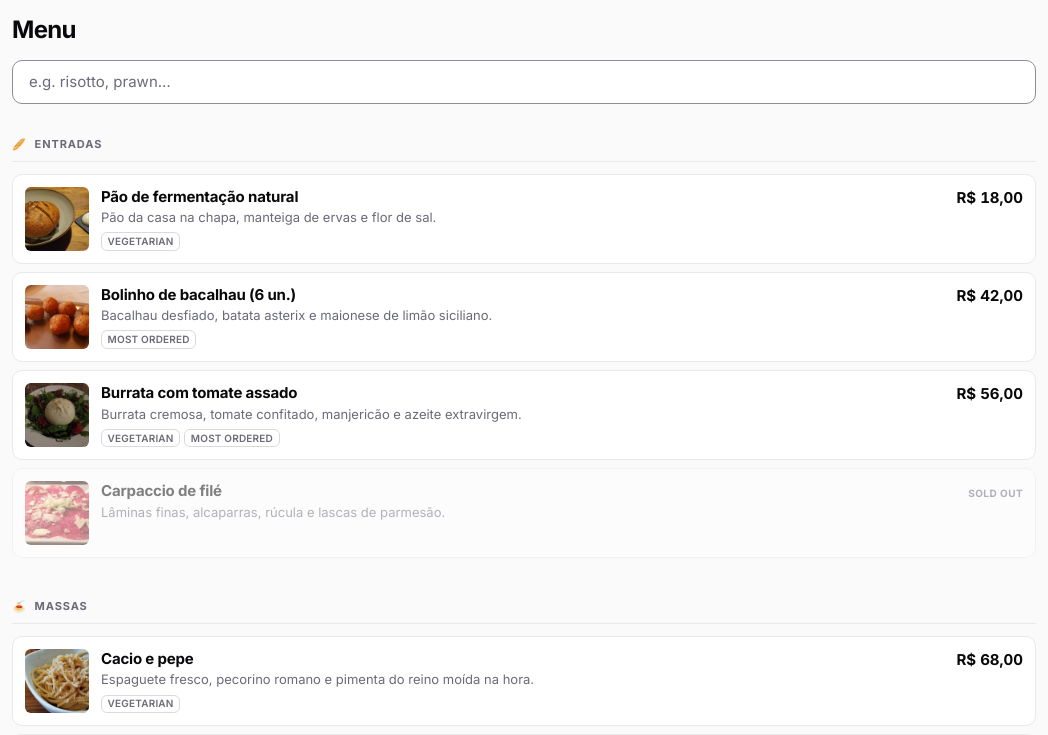
Test: MenuPage › filters the menu as the diner types, ignoring accents
In the search field named "Search the menu": (524, 82) [12,60,1036,104], type "ragu"
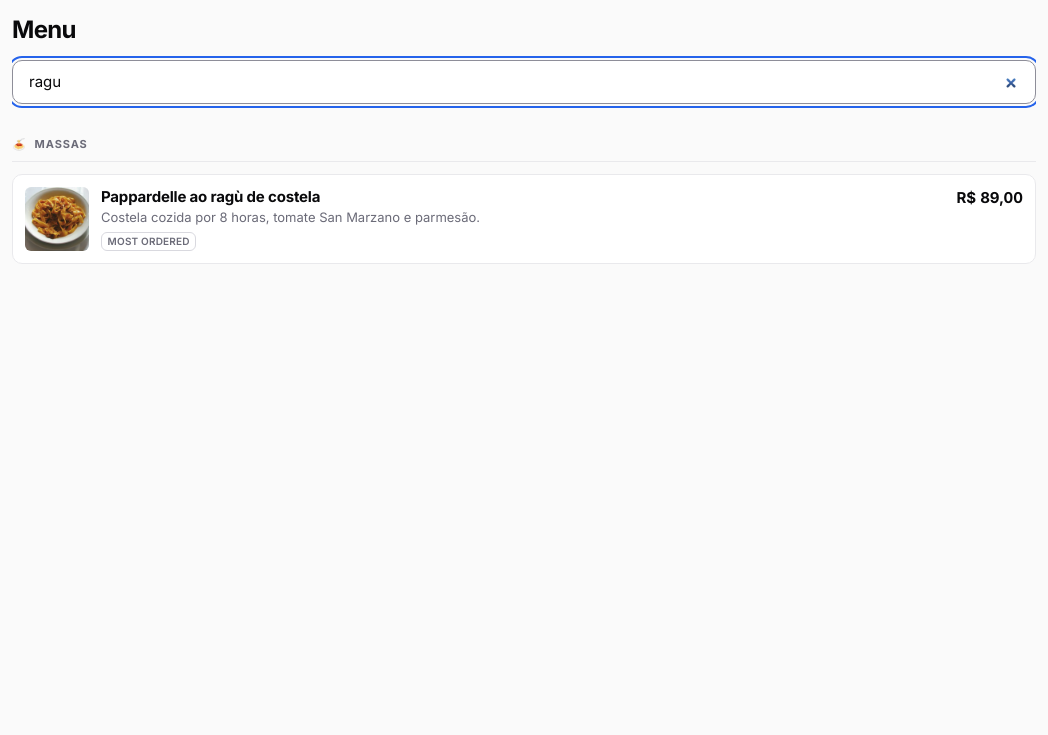
Expected: the text "Pappardelle ao ragù de costela" is shown, [101,186,320,206]
Expected: the button "Cacio e pepe" is gone
